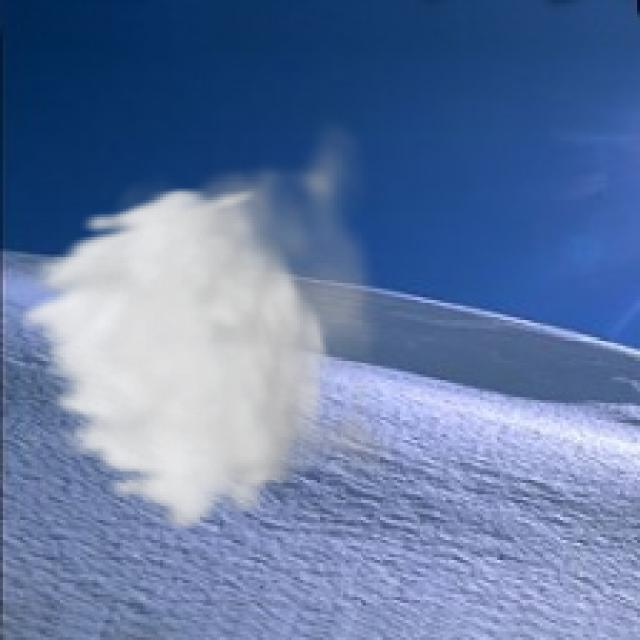smoke: (8, 111, 406, 534)
